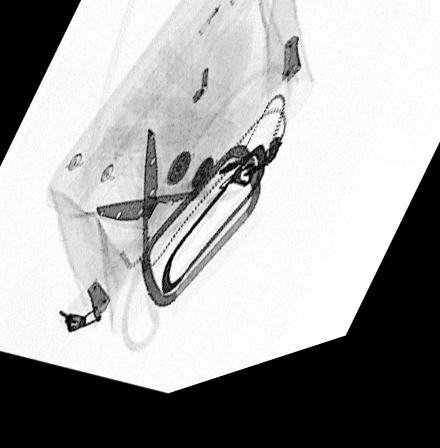Scissors: (94, 137, 249, 362)
